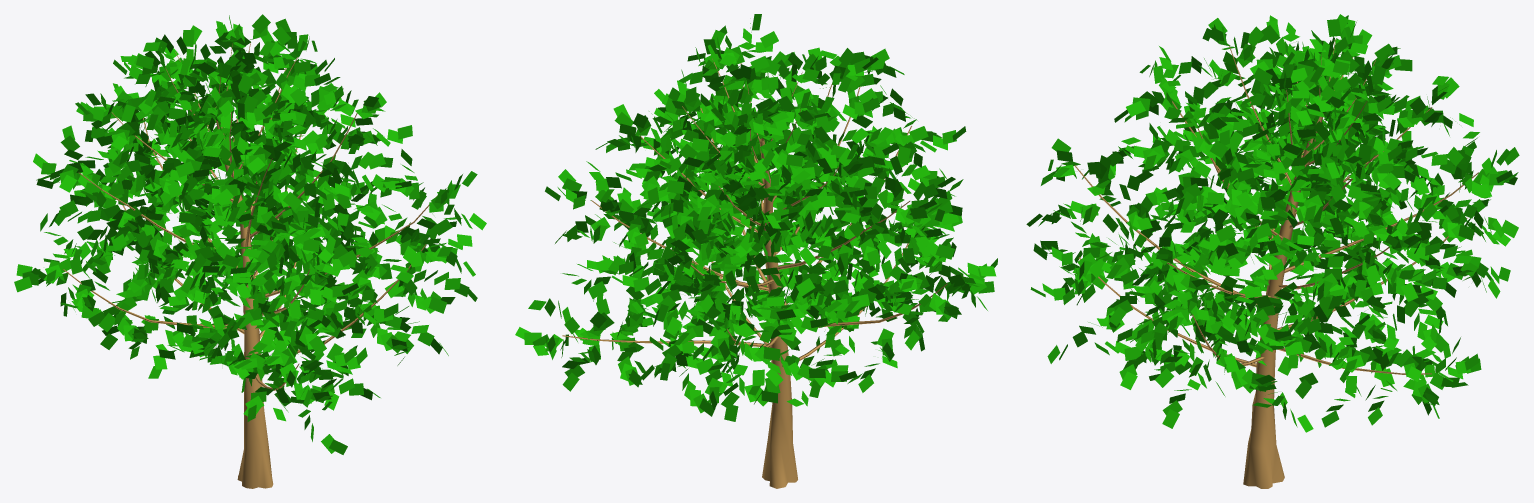
File: 8tree_max01.glb
3 renders of one model, left to right at view 1: azimuth 30°, elevation 25°; view 2: azimuth 150°, elevation 25°; view 3: azimuth 270°, elevation 25°, orthographic. The views are drawn at different scales.
Parts seen in each view (by area): view 1: Tree_Max; view 2: Tree_Max; view 3: Tree_Max.
Part boxes in pixels (<box>): Tree_Max: <box>14,14,486,488</box>; Tree_Max: <box>515,14,997,488</box>; Tree_Max: <box>1026,14,1519,488</box>.
Bounding box in the file's own units: 5.84 × 6.08 × 6.05.
Materials: 2 (2 with a texture image).
